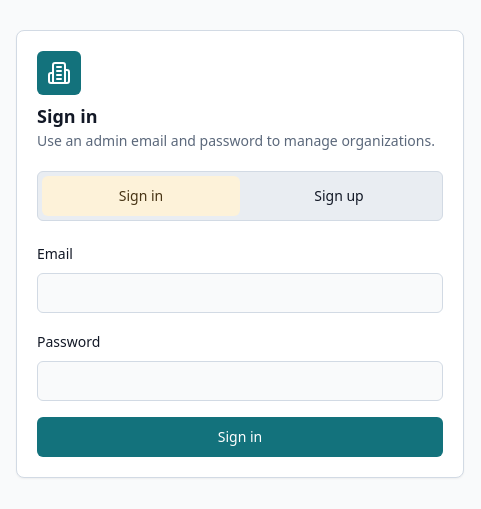
AuthPage › validates password length
The width and height of the screenshot is (481, 509).
Type "admin@example.com" into the field labelled "Email" at (240, 293), box x1=37 y1=273 x2=443 y2=313
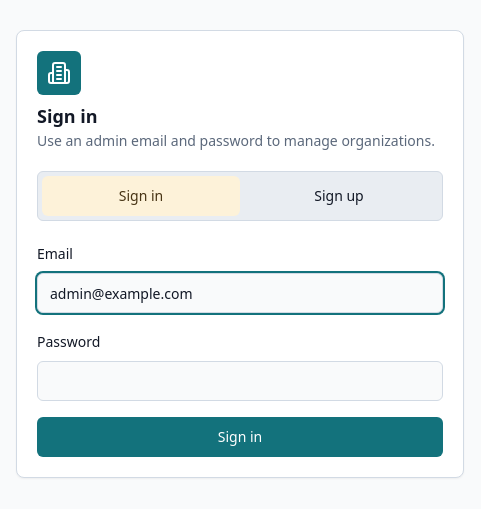
Type "short" into the password field labelled "Password" at (240, 381), box x1=37 y1=361 x2=443 y2=401
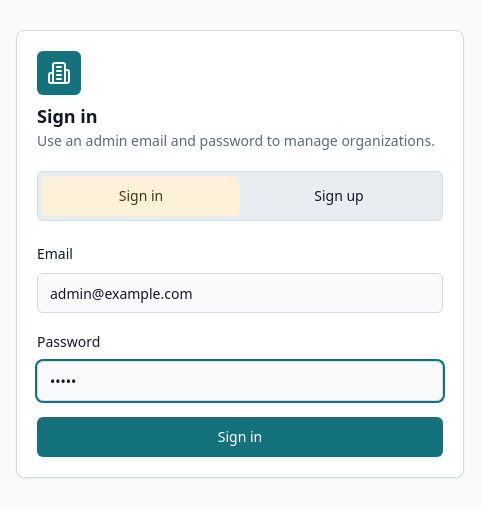
Click the button "Sign in" at (240, 437), box x1=37 y1=417 x2=443 y2=457
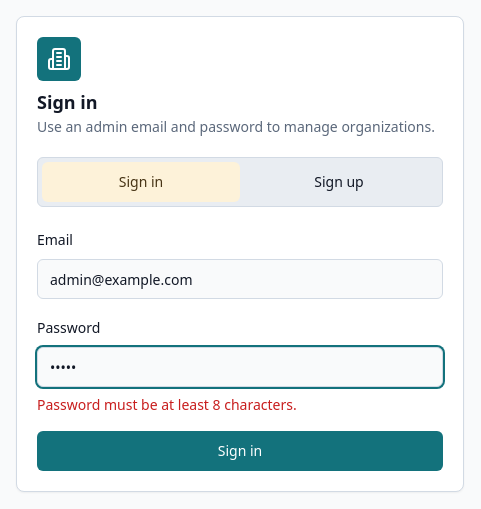
expect the text "Password must be at least 8 characters." is shown: met, box x1=37 y1=395 x2=297 y2=414
